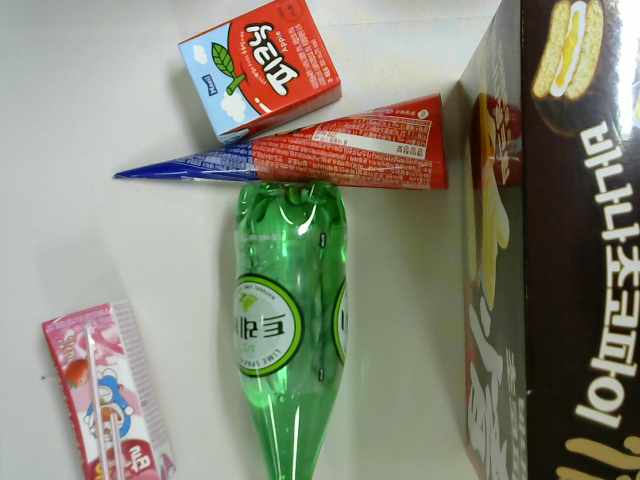Choco_Pie_Banana: (445, 1, 640, 479)
Picnic_Apple: (170, 1, 349, 153)
Strawberry_E_Mong: (40, 292, 186, 480)
Treviraim_500ml: (227, 170, 357, 480)
World_Cone_Banila: (101, 81, 457, 198)
